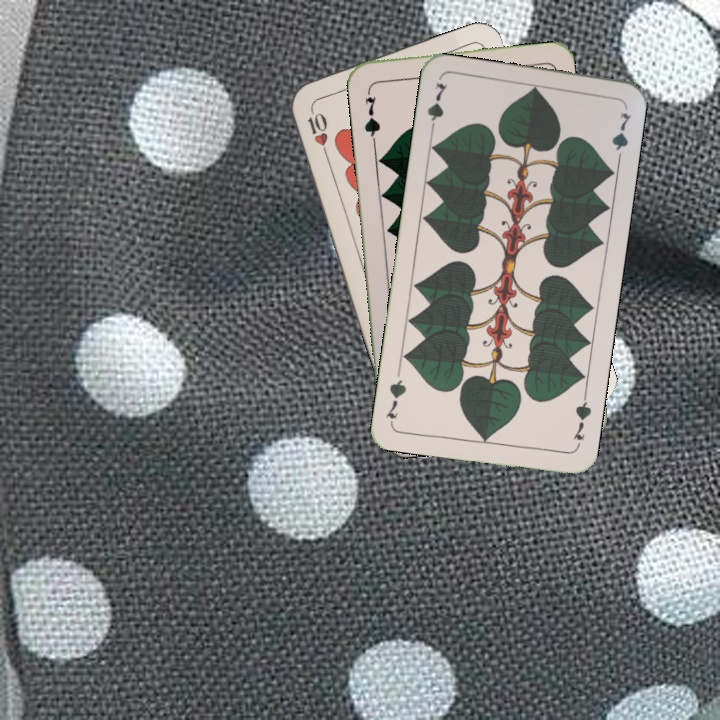G7: (423, 79, 450, 137), (360, 83, 383, 143), (569, 391, 594, 443)
H10: (303, 103, 331, 161)
